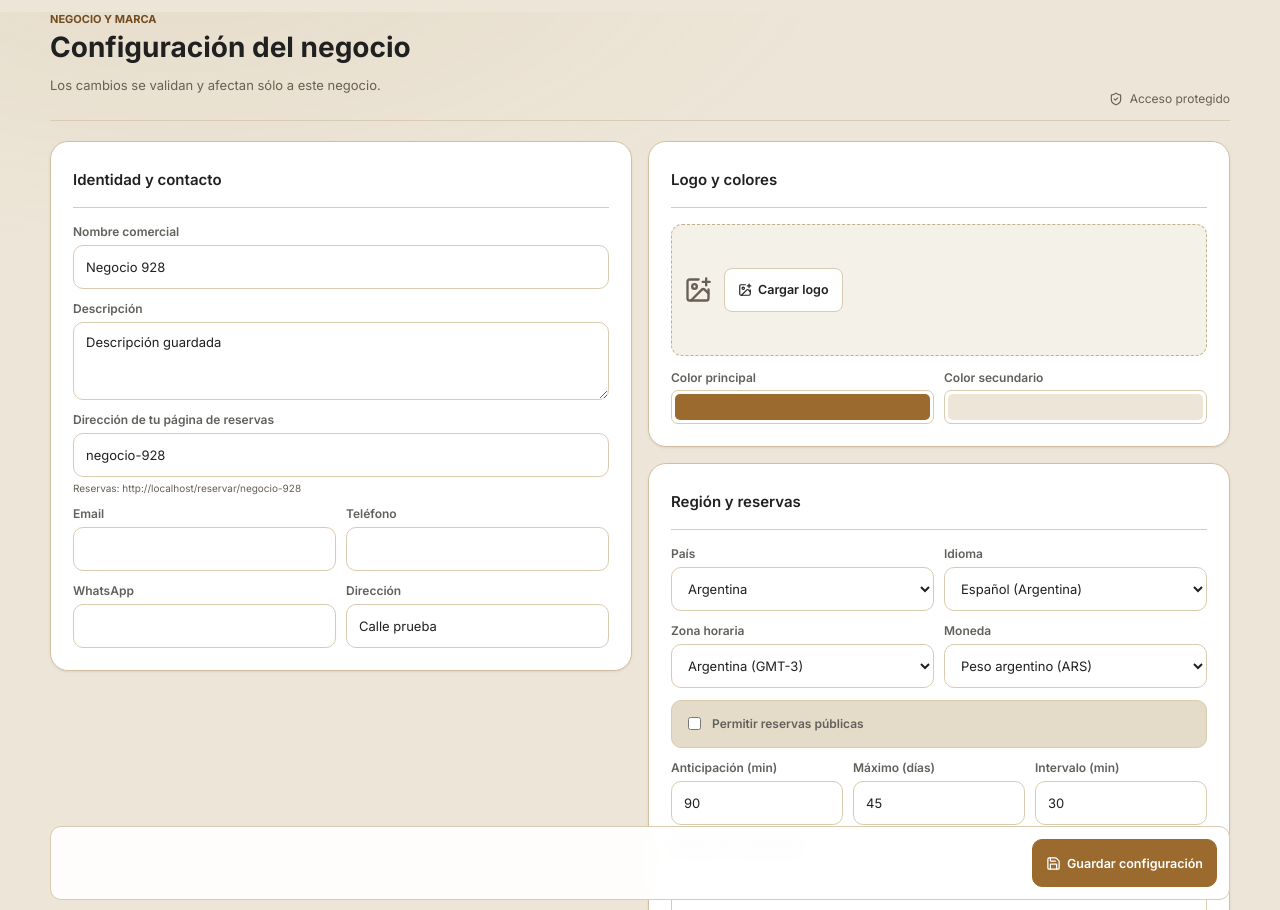
Test: Configuración: lectura fallida y conservación de borradores › respuesta de guardado no verificable (null) no anuncia éxito ni aplica branding
Expected: the field labelled "Nombre comercial" is shown, x1=73 y1=245 x2=609 y2=289
Click the button "Guardar configuración" at [1124, 863], box x1=1032 y1=839 x2=1217 y2=887
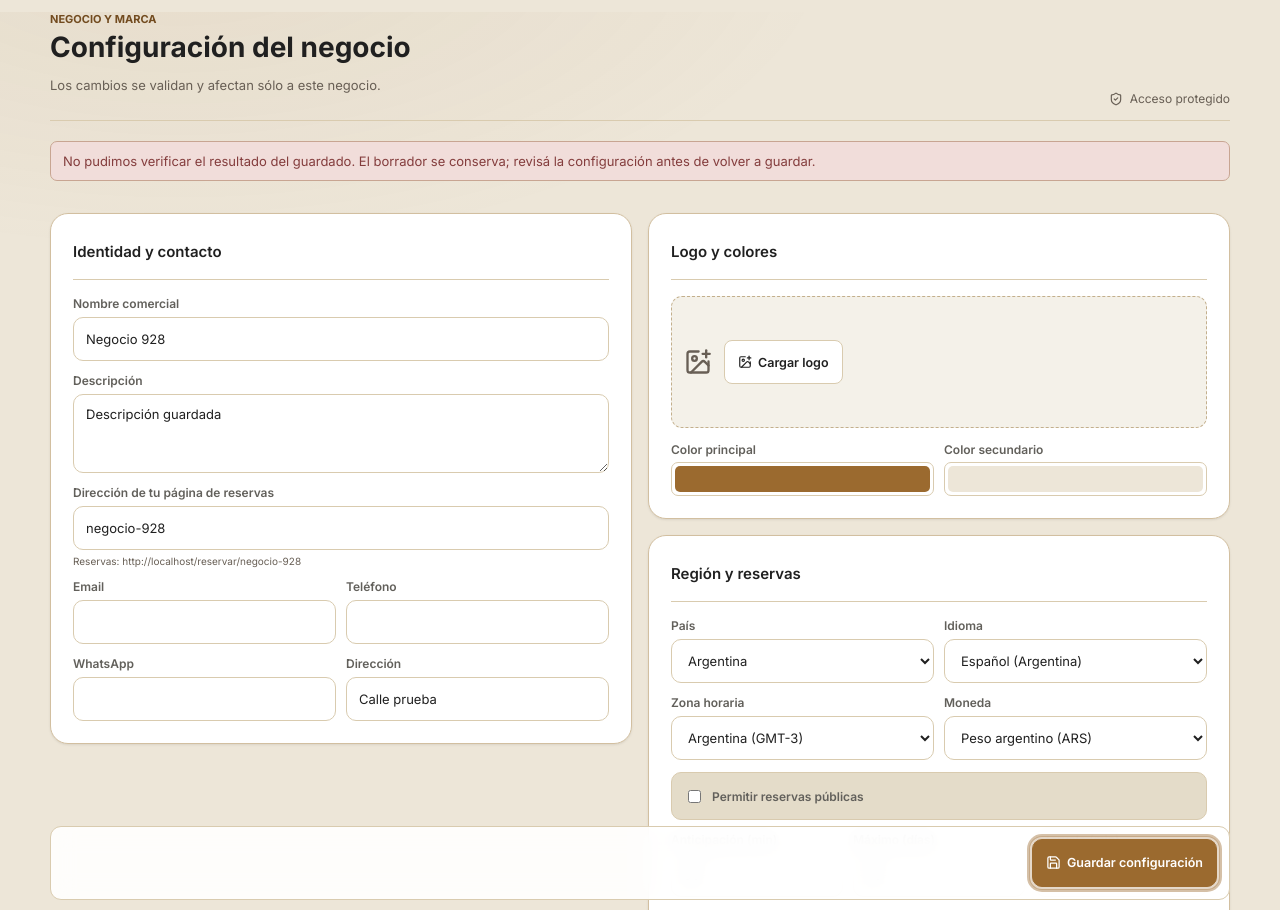
Expected: the field labelled "Nombre comercial" holds "Negocio 928", x1=73 y1=317 x2=609 y2=361
Expected: the message shows "verificar", x1=63 y1=153 x2=816 y2=169
